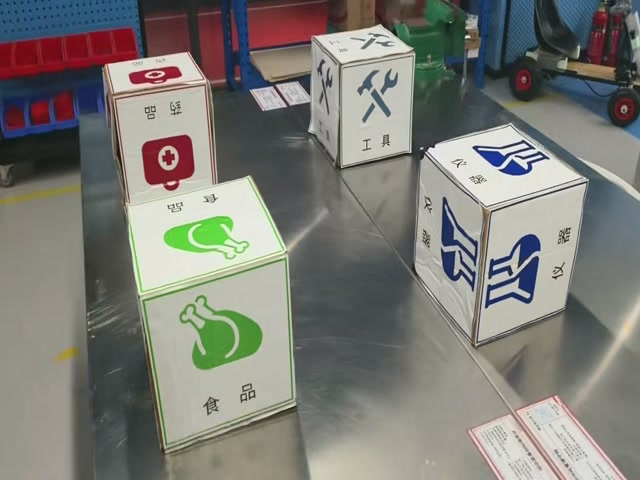Cube_food: (127, 177, 287, 298)
Cube_ins: (426, 125, 586, 212)
Cube_medicine: (104, 53, 209, 97)
Cube_tool: (312, 26, 414, 68)
